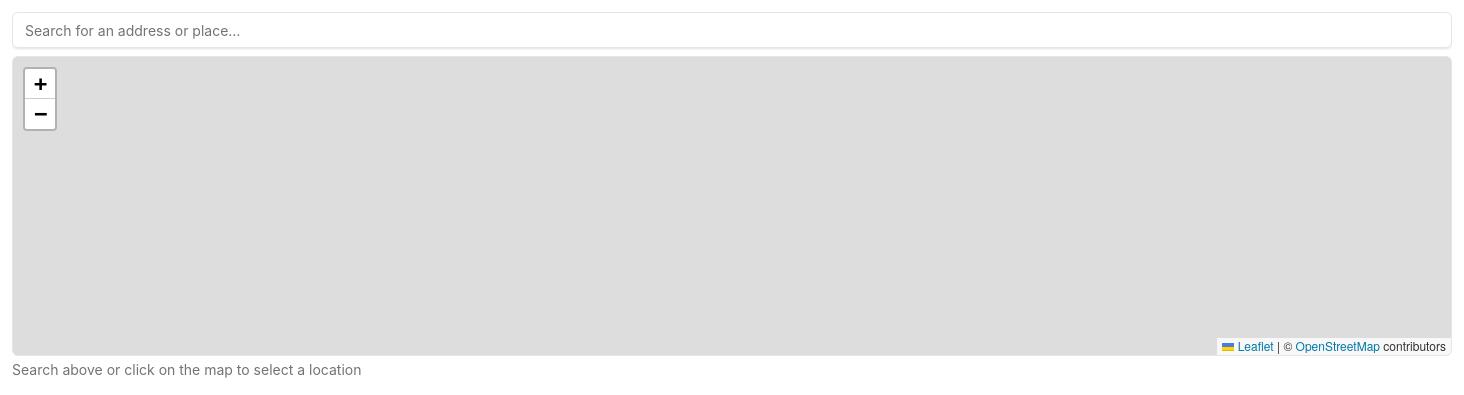
MapPicker — location search & autocomplete › renders suggestions after the debounce window
Type "Istanbul" into the field named "Search for a location" at [732, 30], box [12,12,1452,48]
Wait 300 ms
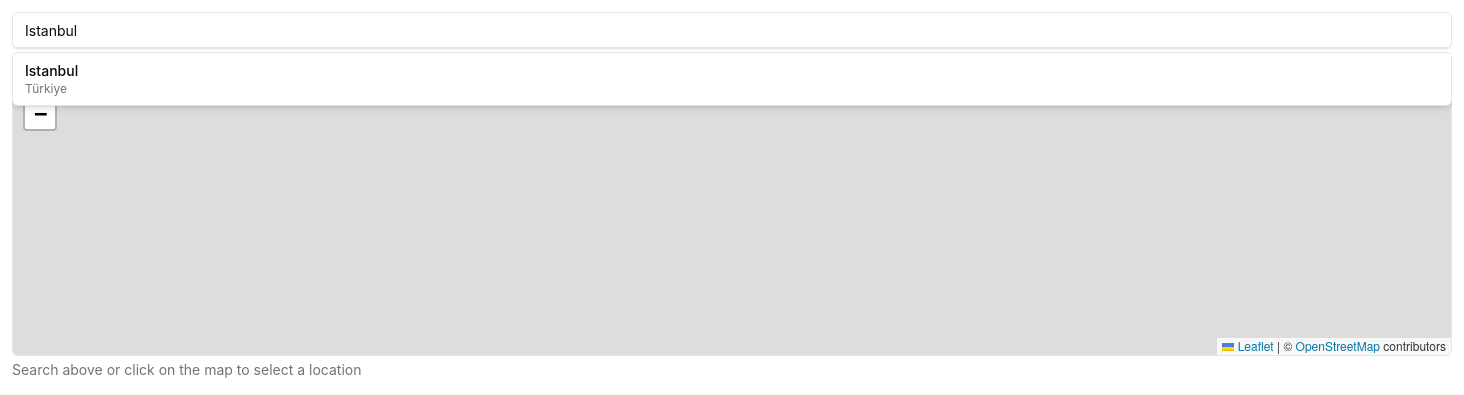
Check: the list named "location suggestions" is shown, box [12,52,1452,106]
Check: the text "Istanbul" is shown, box [25,62,78,79]
Check: the text "Türkiye" is shown, box [25,81,67,96]
